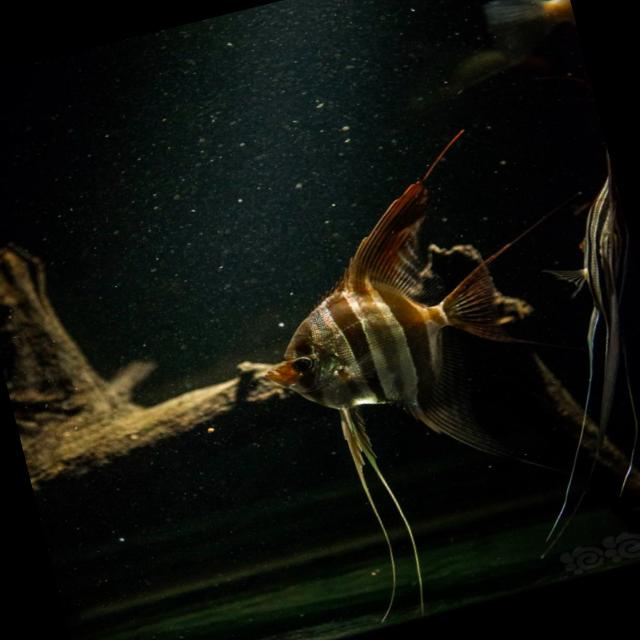AngelFish: (226, 112, 632, 628)
